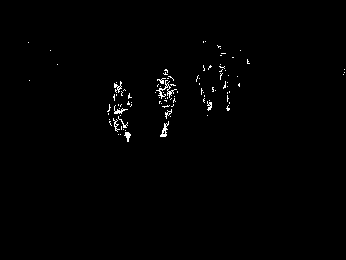person: (152, 65, 179, 140), (106, 80, 134, 143), (218, 62, 242, 114), (196, 62, 218, 116)
